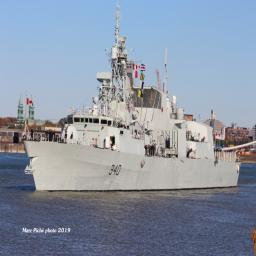Fragata: (22, 7, 246, 197)
